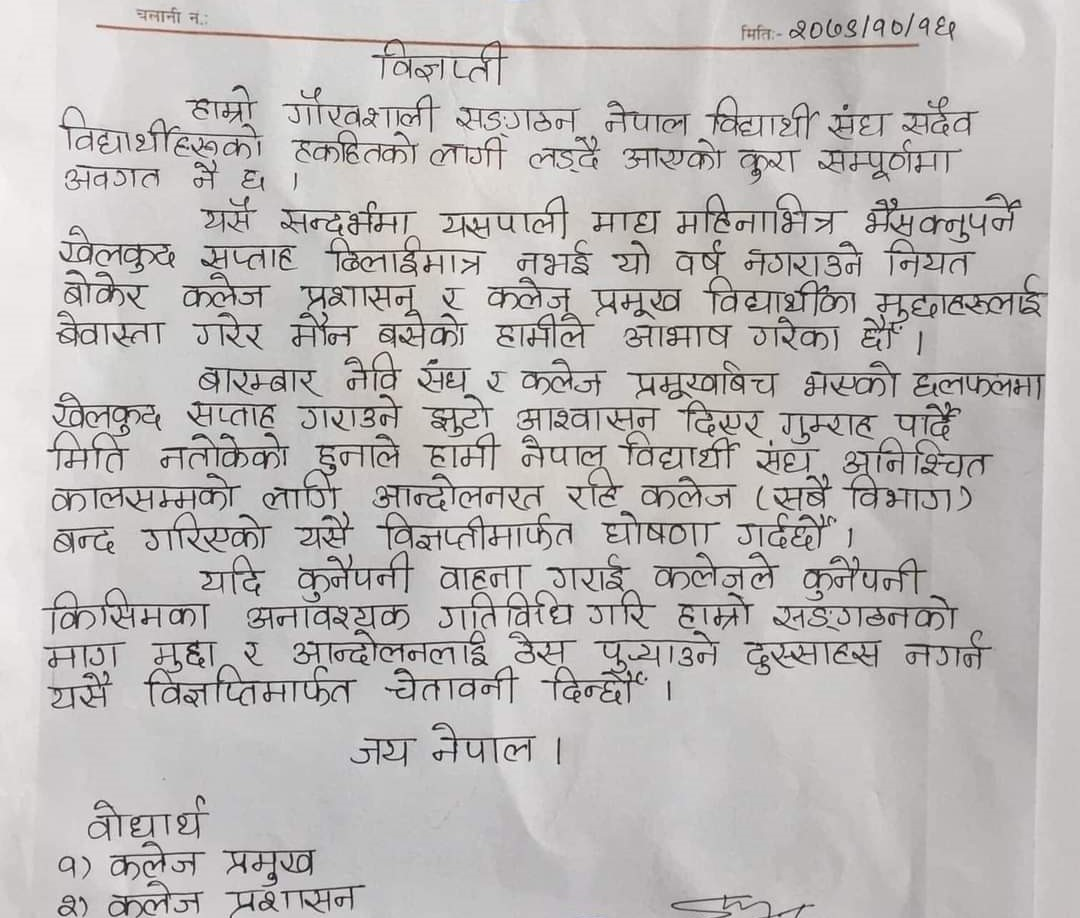text: (145, 669, 357, 711), (862, 189, 1023, 244), (377, 509, 577, 553), (673, 189, 840, 240), (288, 628, 493, 668), (43, 584, 210, 633), (62, 123, 264, 163), (44, 471, 240, 512), (874, 273, 1049, 318), (370, 470, 547, 513), (281, 86, 437, 131), (324, 236, 486, 278), (704, 275, 860, 318), (84, 790, 209, 843), (628, 359, 782, 402), (785, 8, 963, 45), (439, 194, 573, 243), (769, 602, 960, 635), (377, 38, 507, 86), (836, 437, 991, 477), (294, 551, 412, 603), (800, 555, 924, 603), (241, 597, 416, 631), (57, 221, 177, 270), (817, 143, 960, 183), (278, 195, 413, 237), (624, 426, 739, 475), (651, 549, 779, 593), (136, 512, 269, 554), (424, 718, 537, 766), (740, 237, 866, 280), (156, 432, 291, 472), (740, 638, 882, 676), (711, 94, 818, 144), (382, 667, 519, 706), (434, 594, 577, 629), (597, 630, 722, 670), (846, 471, 957, 514), (49, 389, 165, 430), (52, 309, 165, 351), (287, 132, 420, 167), (911, 366, 1043, 401), (512, 402, 661, 433), (452, 100, 579, 136), (195, 362, 322, 398), (296, 393, 403, 434), (801, 360, 904, 402), (620, 133, 726, 173), (227, 888, 365, 918), (622, 317, 735, 353), (46, 427, 128, 476), (548, 666, 648, 706), (221, 844, 316, 886), (779, 405, 876, 446), (196, 232, 295, 272), (518, 354, 607, 398), (109, 838, 200, 881), (489, 313, 589, 352), (298, 279, 416, 312), (178, 268, 267, 311), (376, 310, 467, 352), (734, 513, 836, 550), (748, 316, 847, 354), (603, 513, 713, 547), (635, 473, 736, 510), (54, 269, 145, 309), (590, 283, 685, 321), (885, 238, 973, 279), (104, 883, 204, 918), (184, 395, 278, 432), (515, 432, 606, 470), (60, 160, 161, 194), (676, 589, 753, 633), (683, 399, 767, 439), (260, 469, 340, 511), (548, 553, 631, 593), (191, 310, 270, 352), (312, 432, 404, 468), (904, 634, 993, 671), (524, 135, 604, 176), (602, 100, 690, 137), (899, 98, 977, 139), (195, 553, 267, 597), (487, 276, 571, 312), (40, 635, 124, 671), (427, 135, 507, 172), (289, 312, 359, 354), (46, 670, 116, 712), (186, 81, 255, 123), (827, 101, 893, 143), (424, 435, 498, 472), (343, 347, 400, 395), (895, 398, 960, 439), (48, 522, 121, 558), (584, 592, 653, 630), (514, 243, 591, 277), (437, 561, 526, 590), (565, 468, 622, 513), (737, 142, 798, 184), (506, 628, 572, 666), (347, 733, 414, 770), (152, 634, 217, 670), (291, 512, 353, 549), (769, 475, 829, 513), (427, 403, 493, 437), (200, 196, 256, 236), (589, 206, 662, 235), (416, 355, 470, 394), (755, 443, 815, 477), (672, 237, 724, 276), (614, 238, 654, 279), (860, 319, 900, 355), (186, 159, 222, 193), (235, 163, 270, 194), (240, 635, 270, 668), (482, 367, 512, 399), (437, 285, 469, 310), (53, 890, 80, 918), (52, 851, 79, 877)
